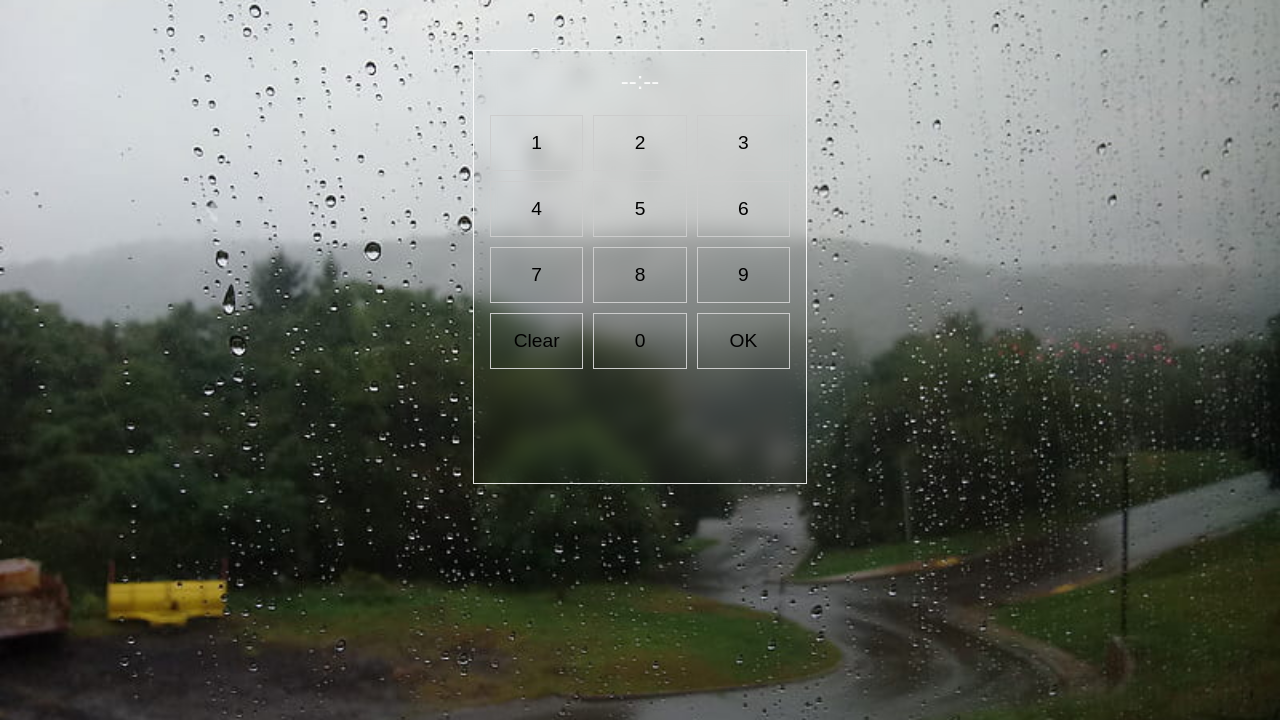
Alarm › shows error if trying to activate without setting time
The width and height of the screenshot is (1280, 720).
Click the button "OK": (743,341) [697,313,790,369]
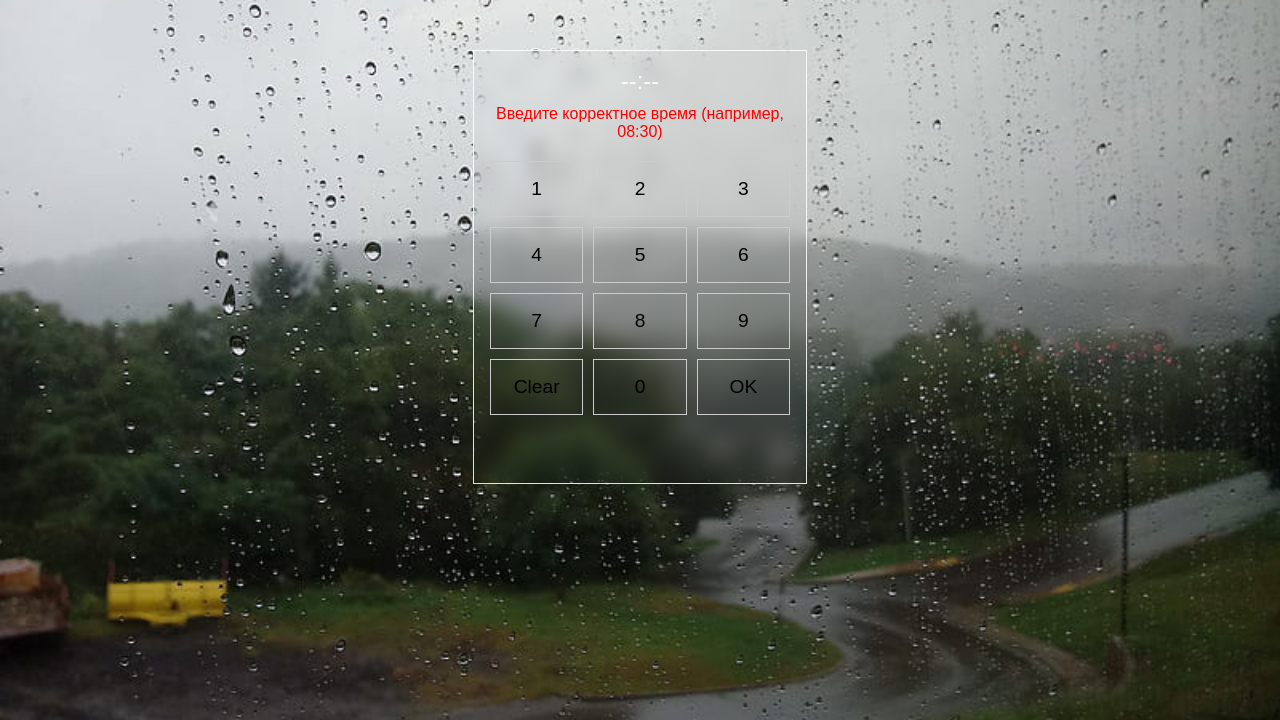
expect the text "Введите корректное время (например, 08:30)" is shown: met, box [490,105,790,141]
